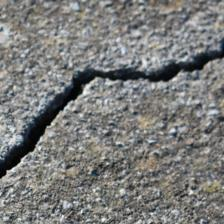Crack: (35, 105, 149, 156), (4, 86, 94, 133)
